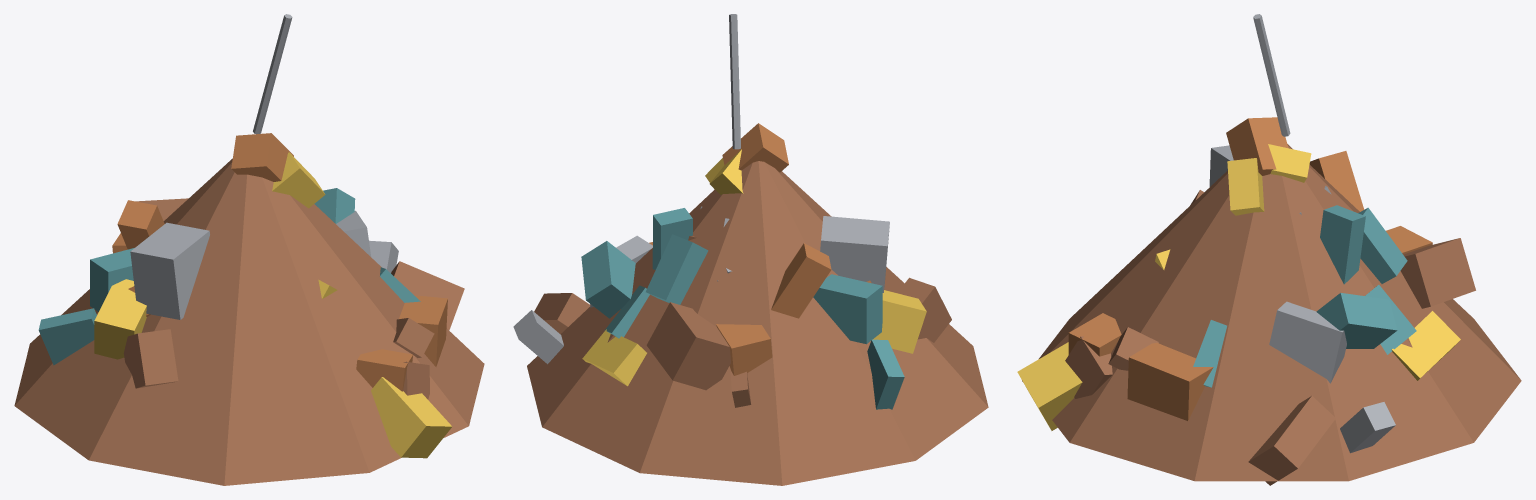
The model's file is env_scrap_heap.glb.
The picture shows the model from 3 angles, left to right: view 1: azimuth 30°, elevation 25°; view 2: azimuth 150°, elevation 25°; view 3: azimuth 270°, elevation 25°; orthographic projection. The views are drawn at different scales.
Visible parts, largest first — view 1: env_scrap_heap; view 2: env_scrap_heap; view 3: env_scrap_heap.
Part boxes in pixels (box(x1,y1,x2,y2)): env_scrap_heap: box(14, 14, 484, 485); env_scrap_heap: box(513, 14, 988, 485); env_scrap_heap: box(1017, 14, 1521, 485).
Bounding box in the file's own units: 9.04 × 7.85 × 9.08.
